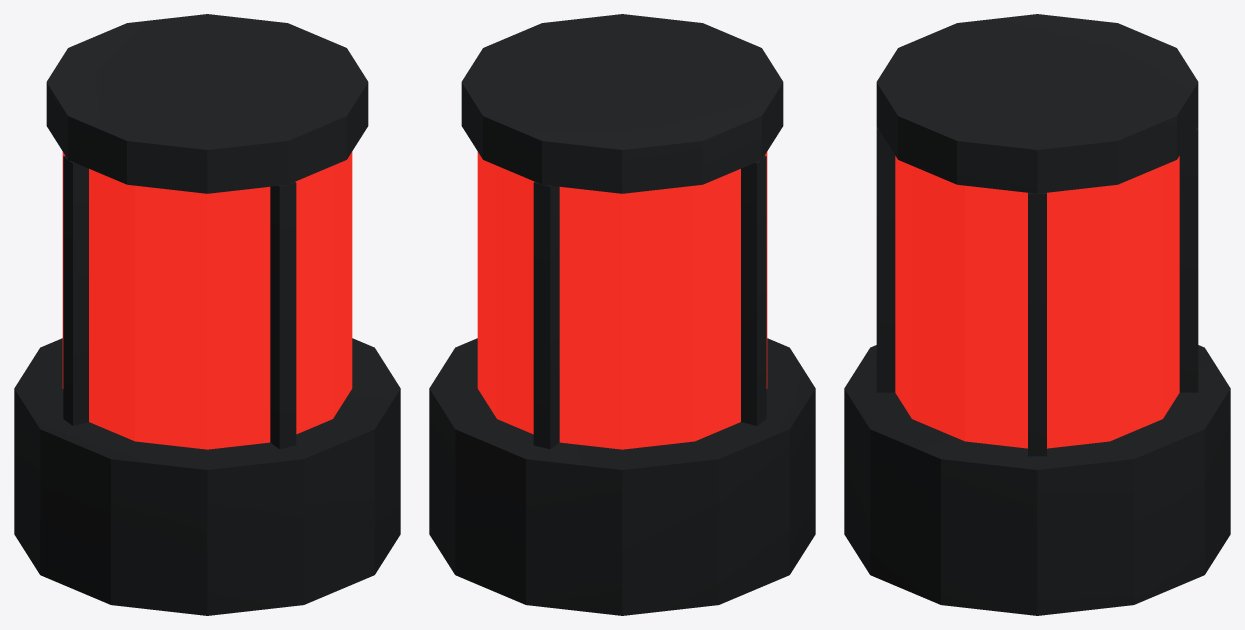
The model's file is warning_beacon.glb.
The picture shows the model from 3 angles, left to right: view 1: azimuth 30°, elevation 25°; view 2: azimuth 150°, elevation 25°; view 3: azimuth 270°, elevation 25°; orthographic projection.
Parts seen in each view (by area): view 1: warning_beacon, warning_beacon__glow_alarm; view 2: warning_beacon, warning_beacon__glow_alarm; view 3: warning_beacon, warning_beacon__glow_alarm.
Boxes of the visible parts, left/top/right/bottom form: warning_beacon: left=14, top=14, right=400, bottom=615; warning_beacon__glow_alarm: left=62, top=152, right=352, bottom=449; warning_beacon: left=429, top=14, right=815, bottom=615; warning_beacon__glow_alarm: left=477, top=152, right=767, bottom=449; warning_beacon: left=844, top=14, right=1230, bottom=615; warning_beacon__glow_alarm: left=895, top=156, right=1179, bottom=448.
Bounding box in the file's own units: 0.24 × 0.31 × 0.24.
